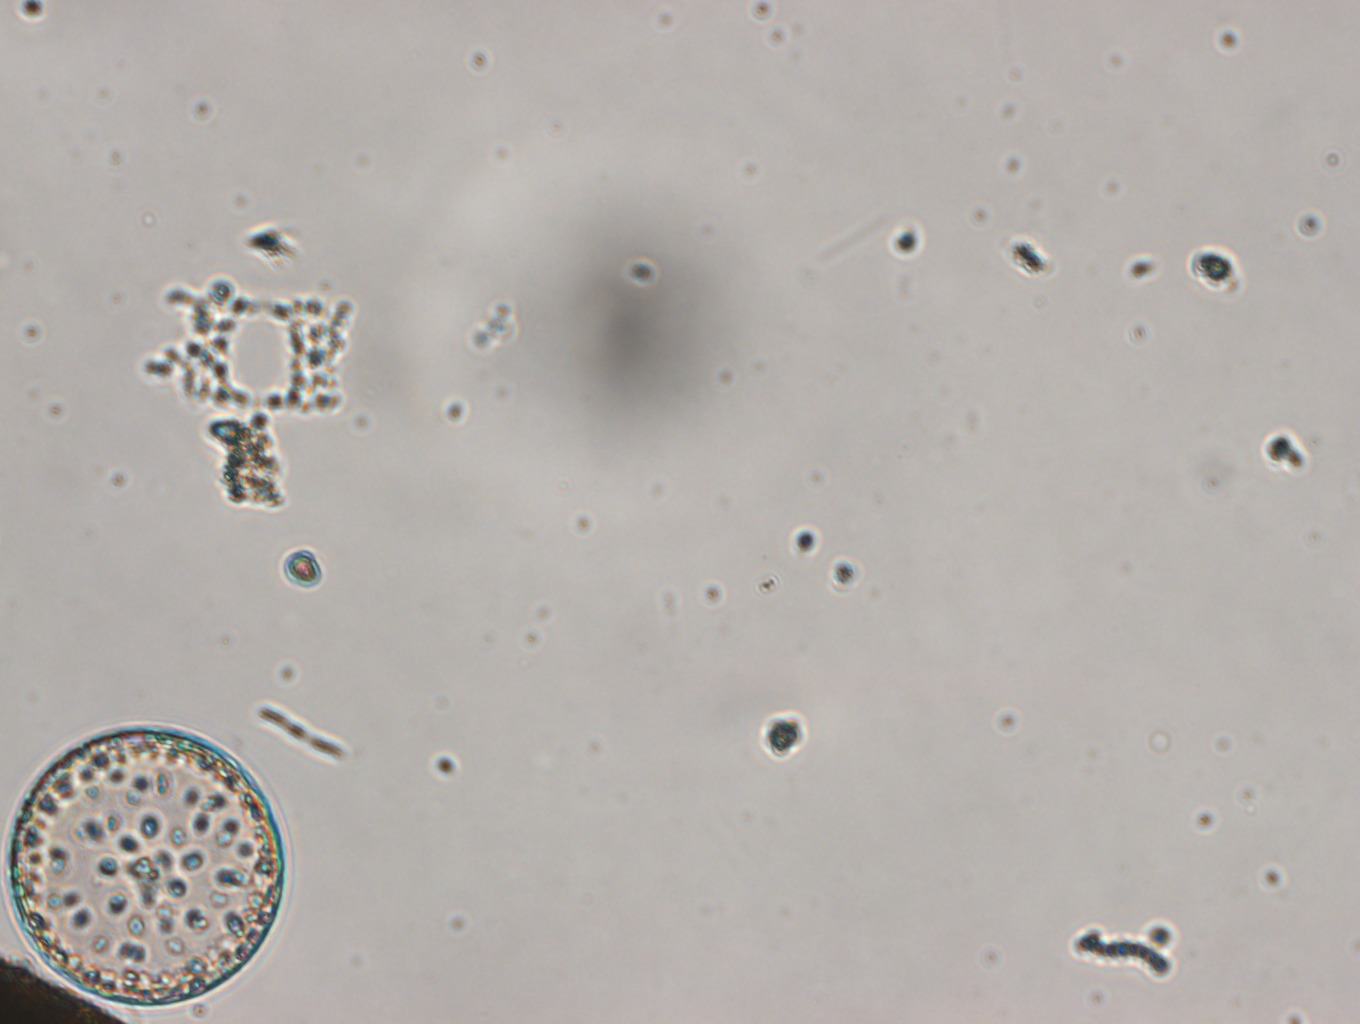coscinodiscus: (5, 725, 284, 1010)
